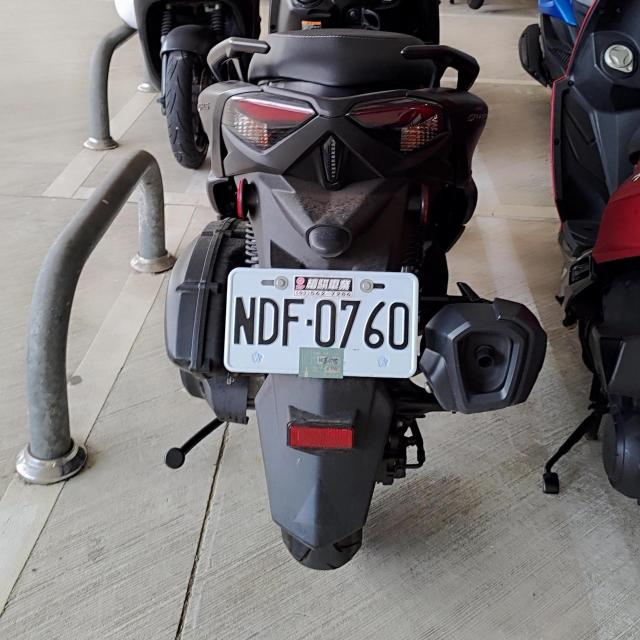W: (225, 266, 418, 378)
